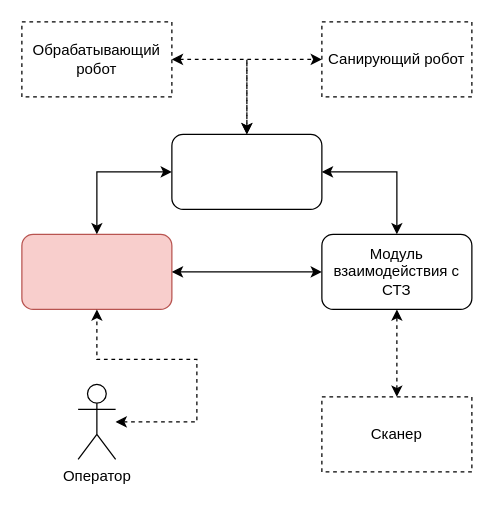
Image size: 494x508. Some labels were removed from this diagram. The centre of each missing label's shape, as x and y in pixels:
"ИУС с HMI" goes at (x=96, y=271).
"Модуль взаимодействия с роботами" goes at (x=246, y=171).
